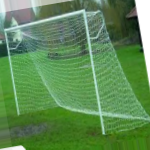goals: (1, 6, 150, 136)
